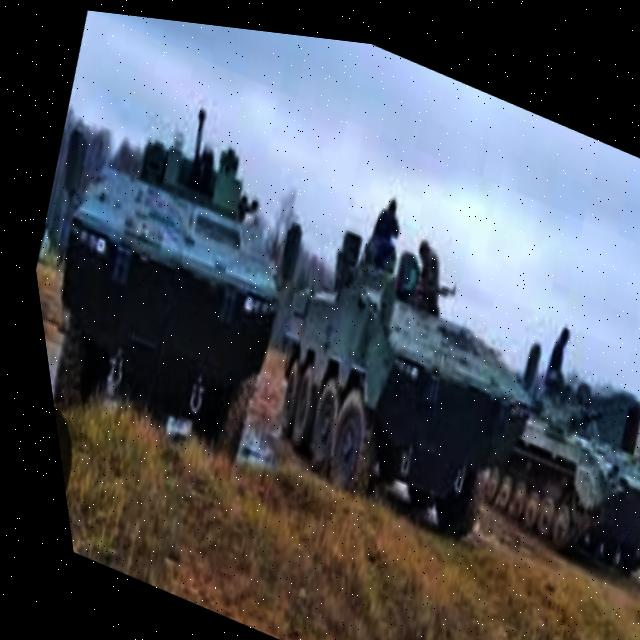MIL_APC: (11, 104, 325, 495), (220, 212, 557, 568), (452, 329, 640, 572)
